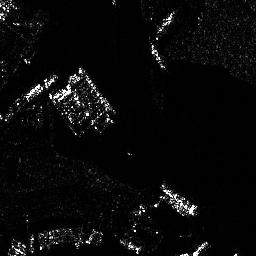ship: (77, 65, 112, 112), (161, 186, 197, 215), (24, 75, 58, 101), (149, 44, 165, 70), (157, 11, 173, 34)
